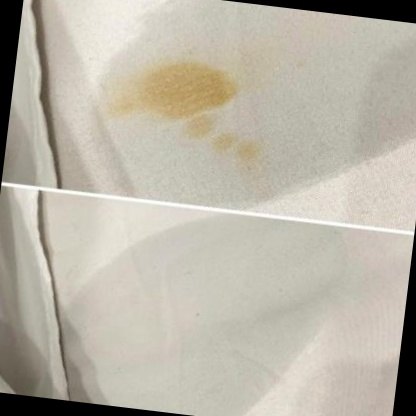coffee: (141, 63, 236, 115), (186, 117, 214, 138)
